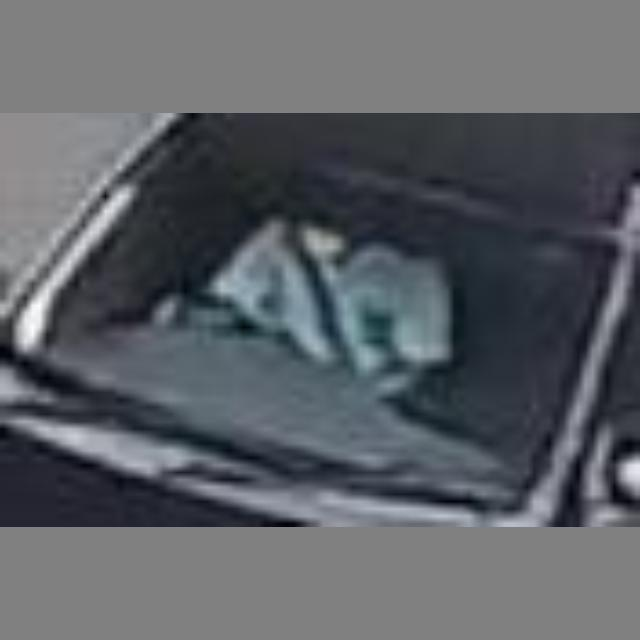pakai: (211, 178, 436, 397)
